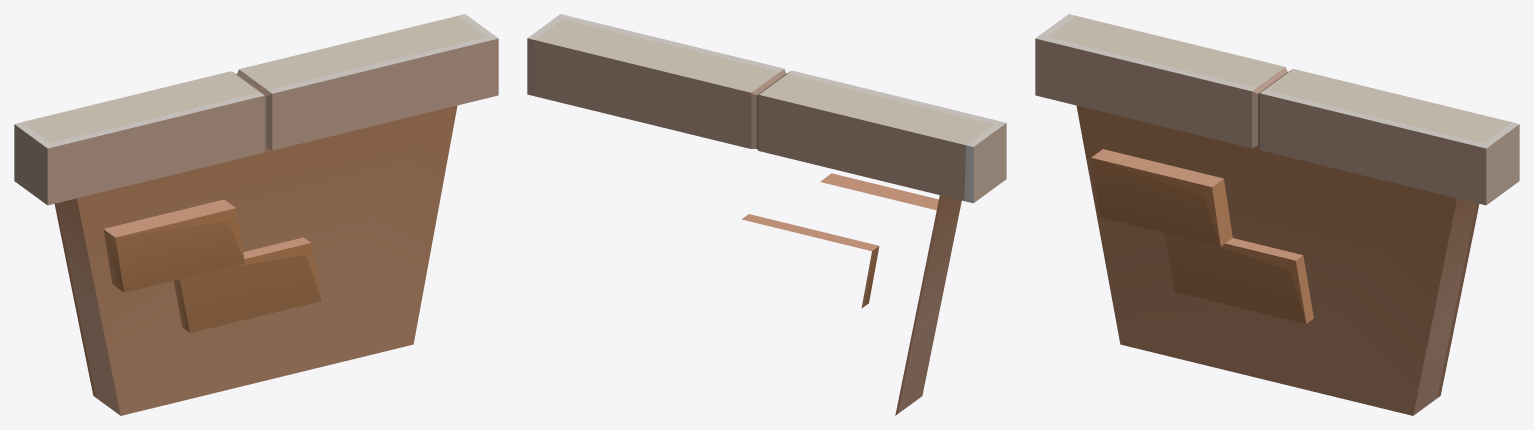
The model's file is PlanterBoxEndCap.glb.
3 views of the same model, side by side, from view 1: azimuth 30°, elevation 25°; view 2: azimuth 150°, elevation 25°; view 3: azimuth 330°, elevation 25° (orthographic).
Visible parts, largest first — view 1: PlanterBoxEndCap; view 2: PlanterBoxEndCap; view 3: PlanterBoxEndCap.
Boxes of the visible parts, left/top/right/bottom form: PlanterBoxEndCap: left=14, top=14, right=498, bottom=415; PlanterBoxEndCap: left=527, top=14, right=1006, bottom=415; PlanterBoxEndCap: left=1035, top=14, right=1519, bottom=415.
Bounding box in the file's own units: 0.5573 × 0.3437 × 0.0842.
